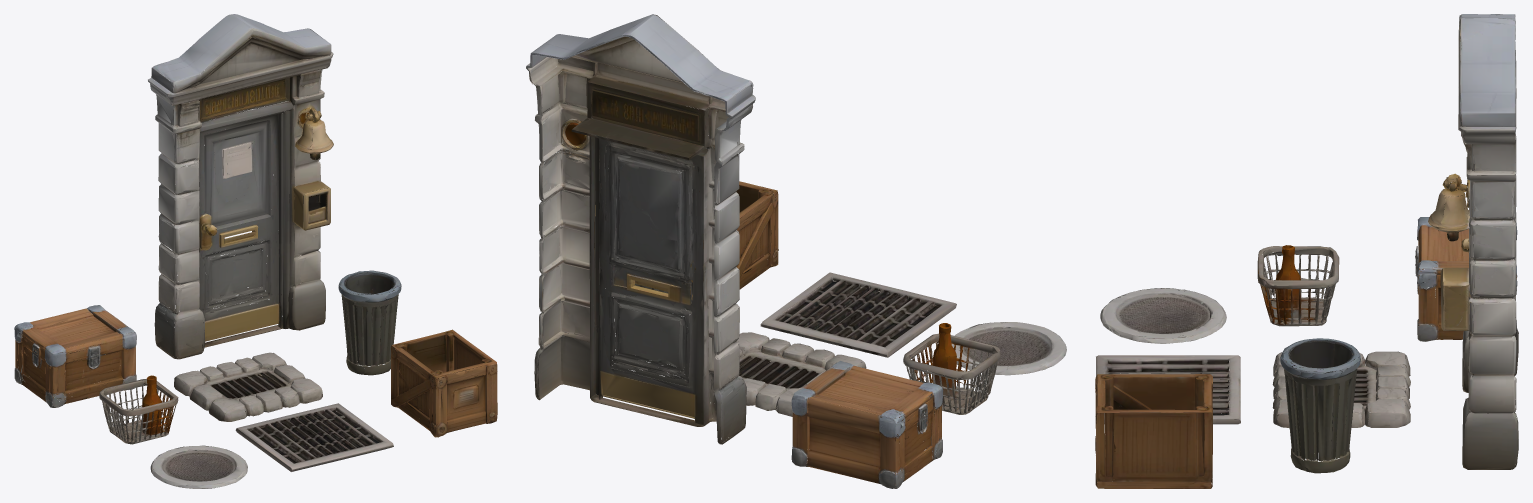
The model's file is env-service-alley-kit.glb.
The picture shows the model from 3 angles, left to right: view 1: azimuth 30°, elevation 25°; view 2: azimuth 150°, elevation 25°; view 3: azimuth 270°, elevation 25°; orthographic projection. The views are drawn at different scales.
Visible parts, largest first — view 1: env-service-alley-kit; view 2: env-service-alley-kit; view 3: env-service-alley-kit.
Boxes of the visible parts, <box> form: env-service-alley-kit: <box>14,14,497,488</box>; env-service-alley-kit: <box>526,14,1066,488</box>; env-service-alley-kit: <box>1095,14,1518,488</box>.
Size of the model in its own units: 3.6 by 3.4 by 3.19.
Materials: 1 (1 with a texture image).
